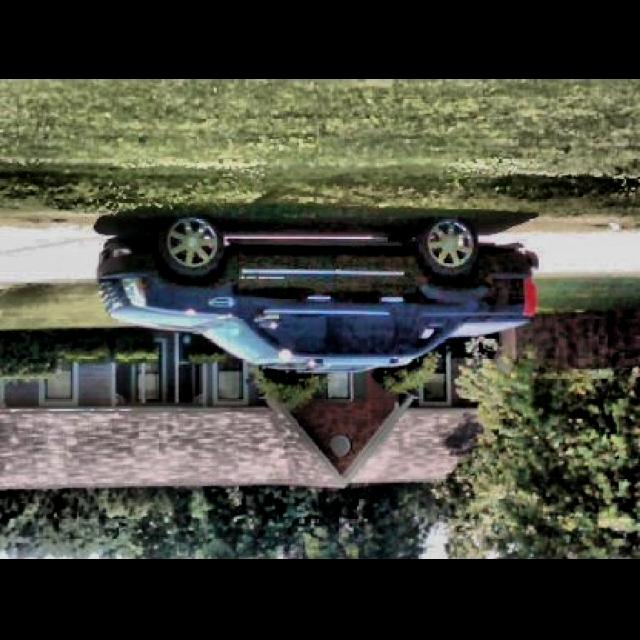black: (101, 198, 546, 377)
